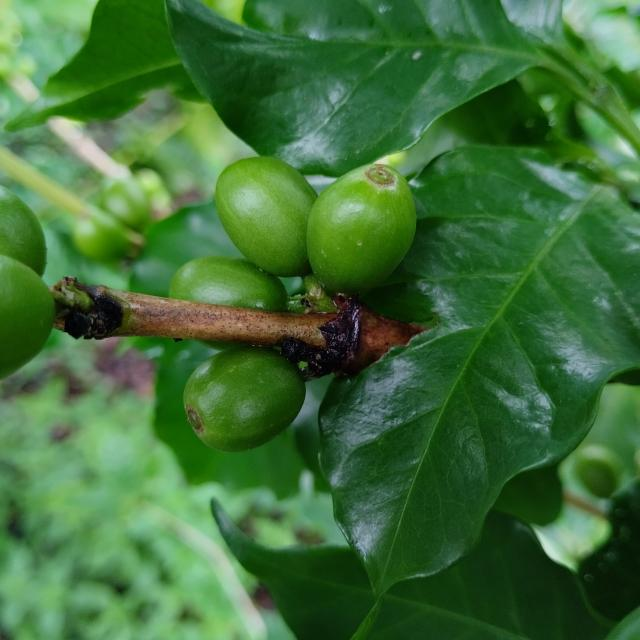green: (307, 163, 416, 294), (183, 346, 306, 452), (215, 156, 318, 276), (168, 255, 287, 312), (0, 255, 54, 379), (0, 185, 46, 275), (200, 341, 244, 350)
